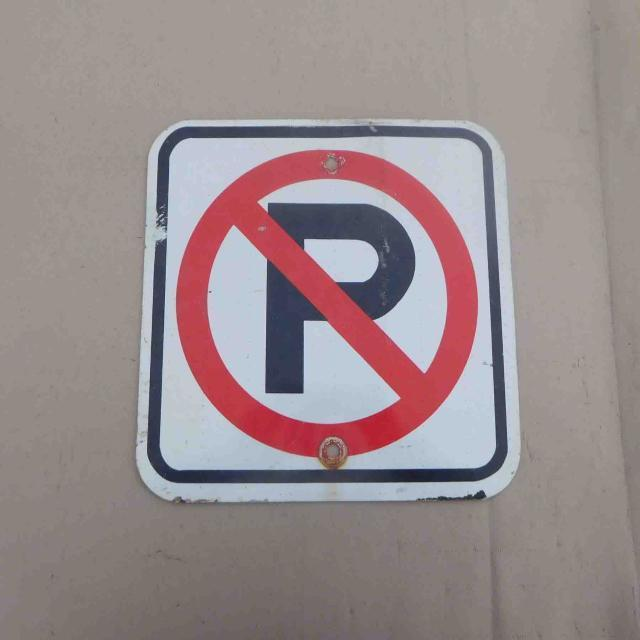no parking: (180, 150, 479, 459)
